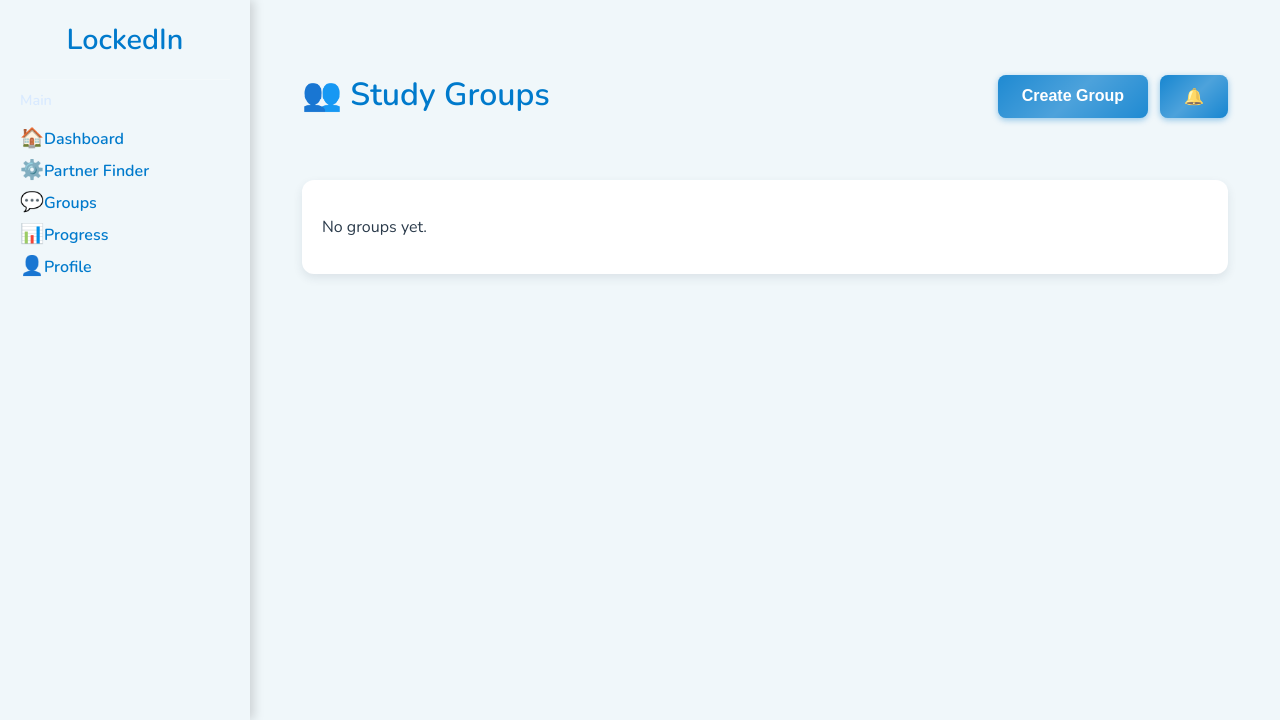
it: GroupsPage › opens create group modal
This screenshot has width=1280, height=720.
Note: Click create button
Click the button "Create Group" at (1073, 96), box [998,75,1148,118]
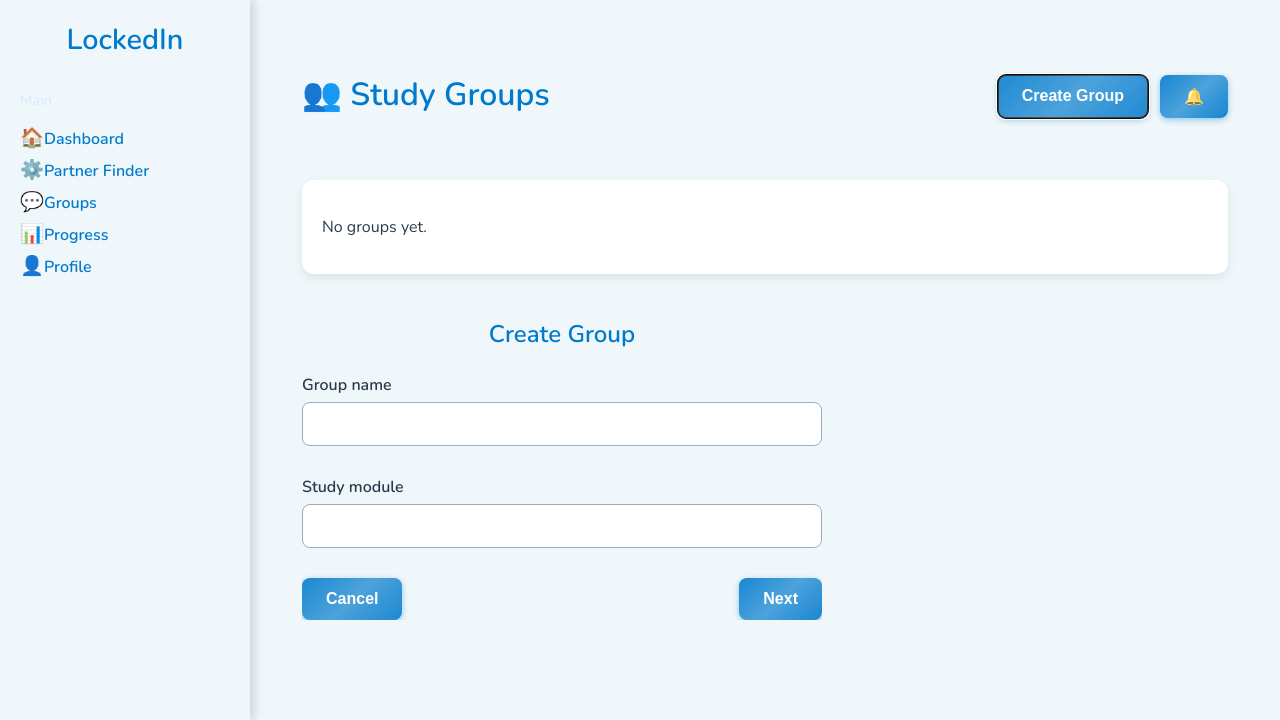
Expected: the heading "Create Group" is shown, [489,318,635,350]
